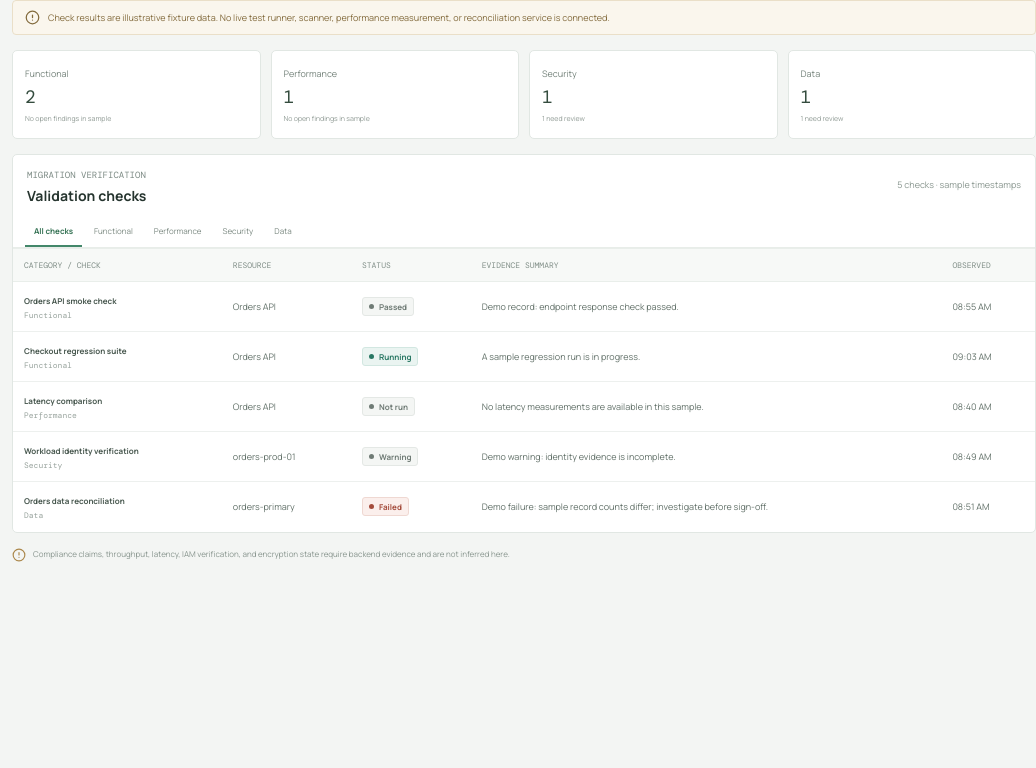
Test: ValidationWorkspace › filters the check list by validation category
Expected: the heading "Validation checks" is shown, [27,186,146,205]
Click the tab "Performance": (178, 232) [145,216,210,247]
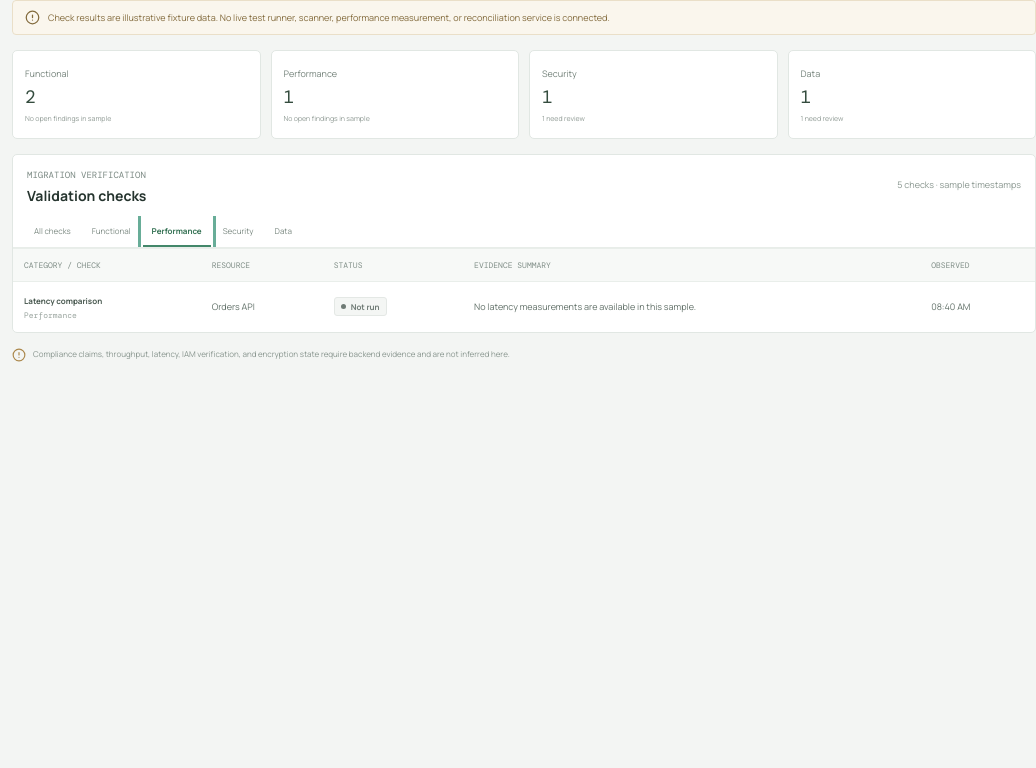
Expected: the text "Latency comparison" is shown, [24,295,102,306]
Expected: the text "Orders API smoke check" is gone
